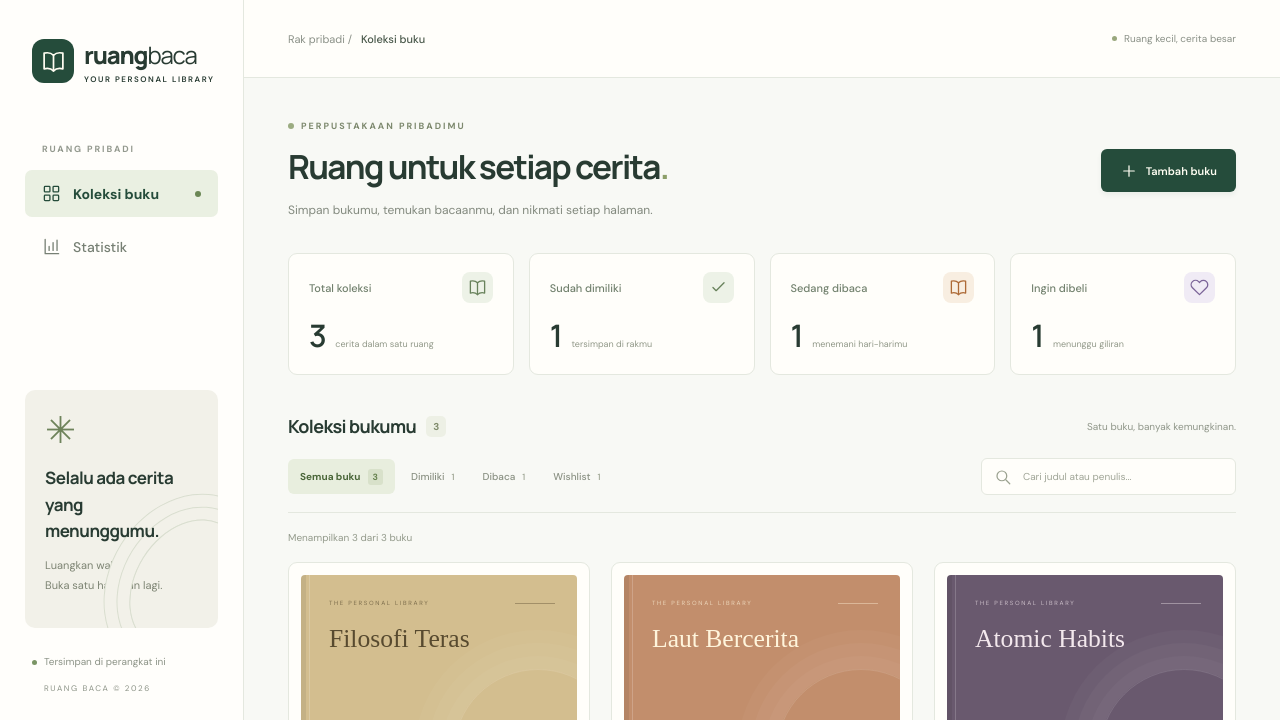
Scenario: Aplikasi manajemen buku › navigasi statistik menampilkan jumlah dan persentase sesuai data
Click the link "Statistik". click: (85,246)
box: x1=42 y1=237 x2=127 y2=256
(page scrolled)
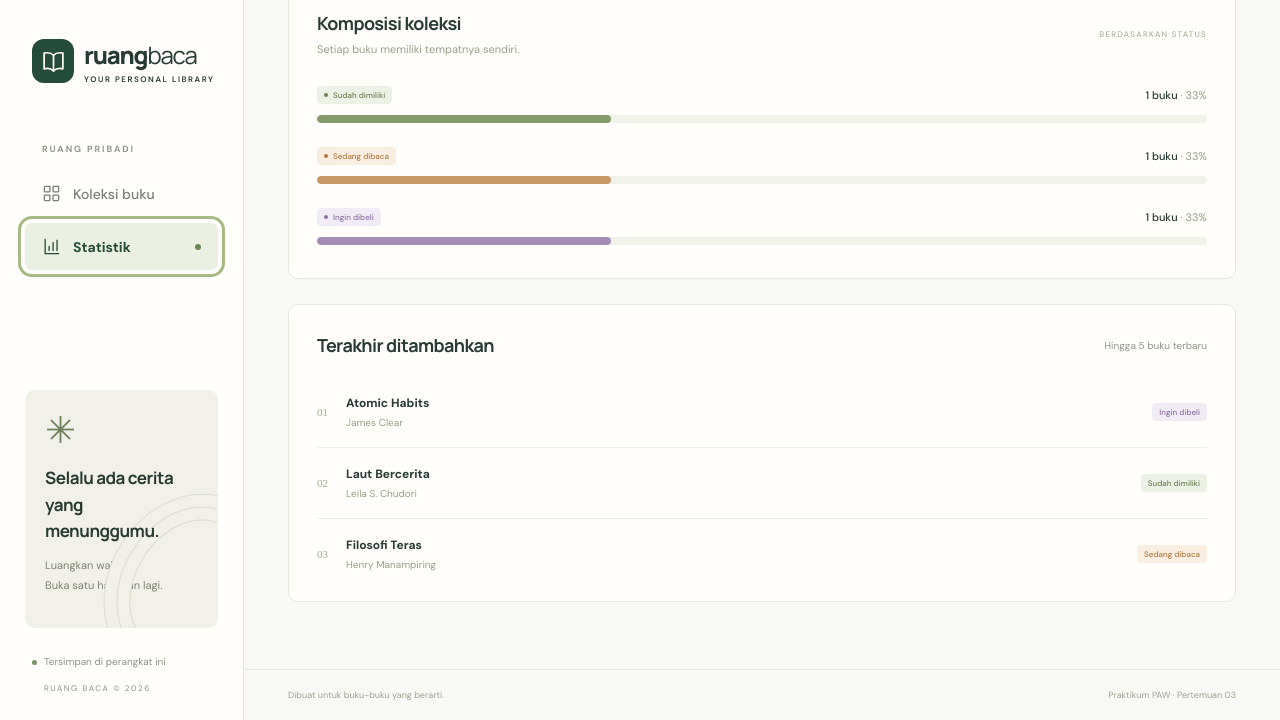
Now the number of progress indicators is 3, box x1=317 y1=115 x2=1207 y2=123; x1=317 y1=176 x2=1207 y2=184; x1=317 y1=237 x2=1207 y2=245
Now the list shows "Atomic Habits", box x1=346 y1=395 x2=429 y2=411
